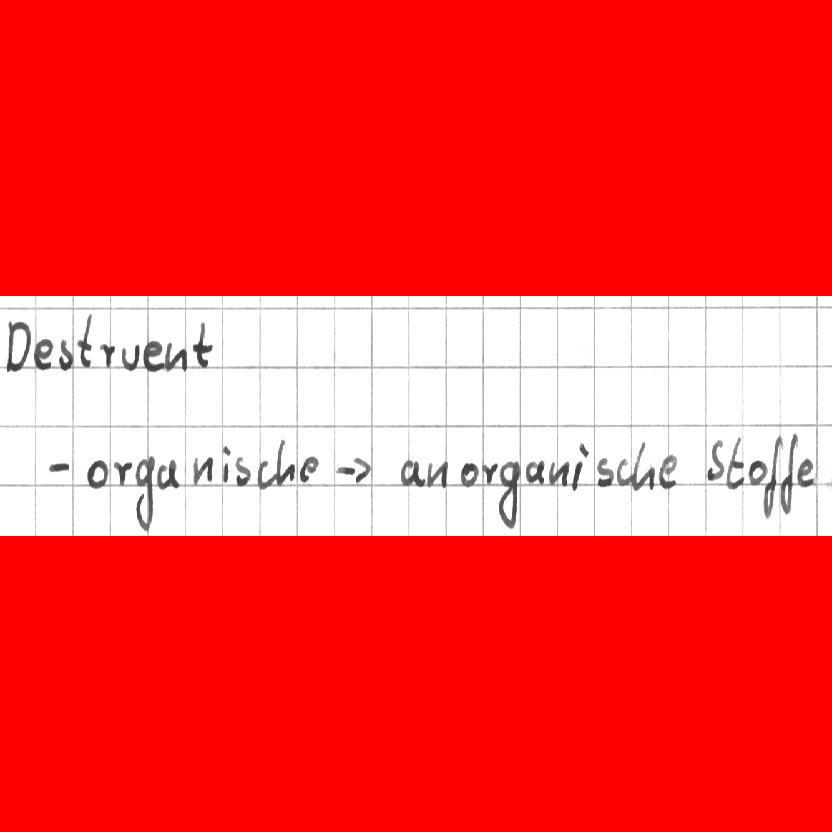Char: (770, 433, 795, 517), (133, 455, 154, 530), (3, 317, 31, 372), (498, 461, 519, 526), (632, 436, 655, 494), (333, 455, 373, 485), (192, 319, 214, 370), (726, 436, 746, 488), (76, 315, 94, 368), (275, 438, 295, 485), (571, 442, 589, 494), (705, 438, 724, 482), (423, 458, 449, 489), (165, 340, 189, 373), (85, 458, 109, 490), (657, 452, 676, 491), (159, 456, 181, 489), (33, 335, 53, 370), (191, 455, 214, 484), (546, 458, 569, 487), (256, 458, 276, 490), (400, 457, 422, 486), (144, 340, 164, 371), (113, 458, 133, 487), (56, 338, 73, 372), (596, 455, 614, 487), (798, 456, 816, 488), (299, 455, 320, 482), (525, 458, 545, 486), (233, 456, 250, 487), (122, 342, 140, 371), (460, 460, 480, 486), (746, 458, 765, 485), (100, 341, 118, 369), (615, 459, 632, 487), (220, 441, 231, 484), (482, 459, 498, 486), (46, 459, 71, 475), (823, 454, 832, 492)
